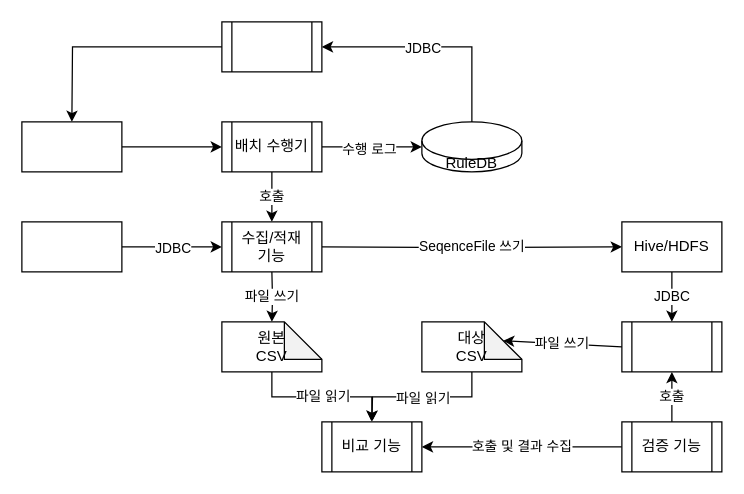
This 744x494 diagram has some shape labels left out. The shapes that lost their labels are listed below. From the top down, each one's box as (x1, y1, x2, y2) in pixels, then its label:
(221, 21, 322, 72): 설정 파일 생성기
(21, 121, 122, 172): 설정 파일
(21, 221, 122, 272): RDBMS
(621, 321, 722, 372): CSV 추출 기능
